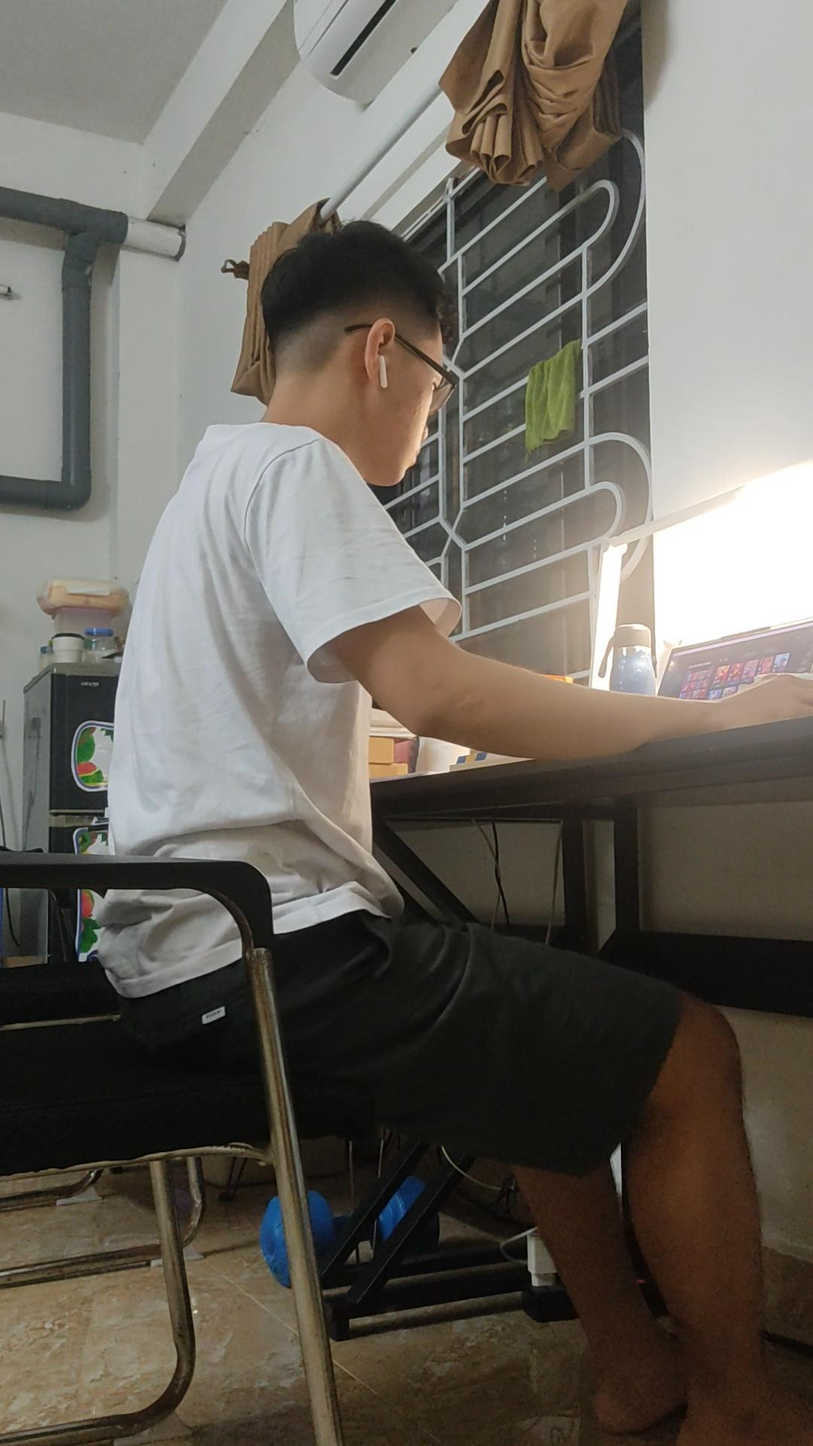GoodPosture: (108, 222, 812, 1445)
